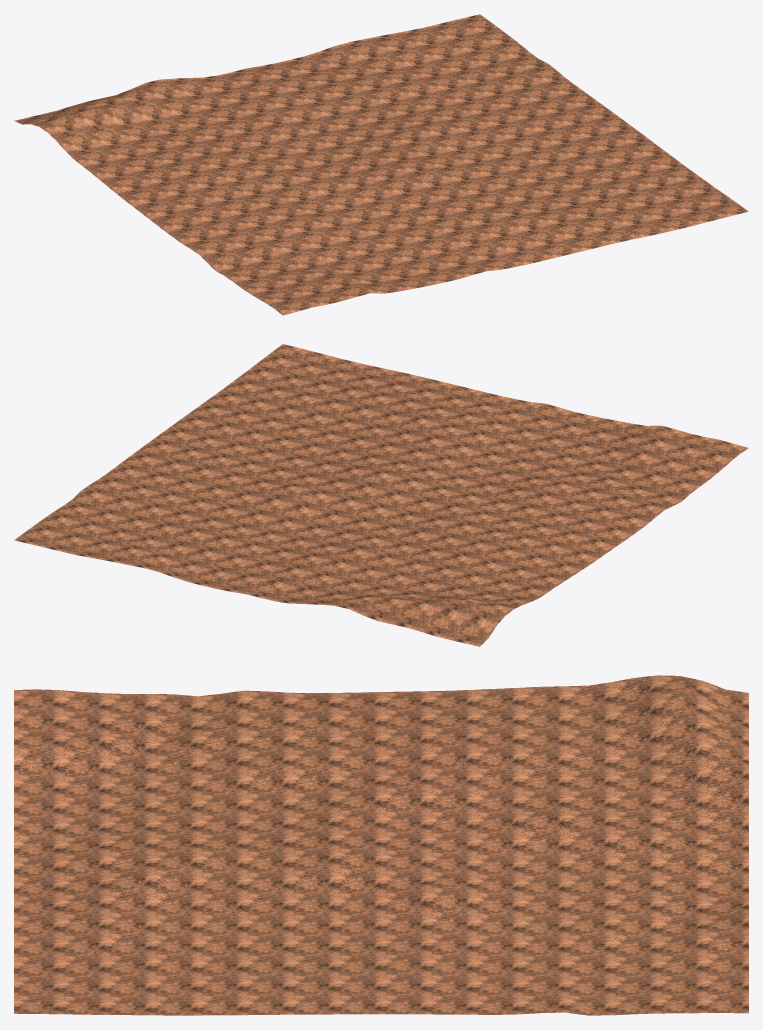
Rendered from terrain_02_07.dae.
3 views of the same model, one above another, from view 1: azimuth 30°, elevation 25°; view 2: azimuth 150°, elevation 25°; view 3: azimuth 270°, elevation 25° (orthographic). The views are drawn at different scales.
Parts seen in each view (by area): view 1: terrain_02_07-node; view 2: terrain_02_07-node; view 3: terrain_02_07-node.
Part boxes in pixels (x1,y1,x2,y2): terrain_02_07-node: (14,14,748,315); terrain_02_07-node: (14,344,748,646); terrain_02_07-node: (14,675,748,1015).
Size of the model in its own units: 128 by 128 by 6.71.
1 material, 1 textured.
